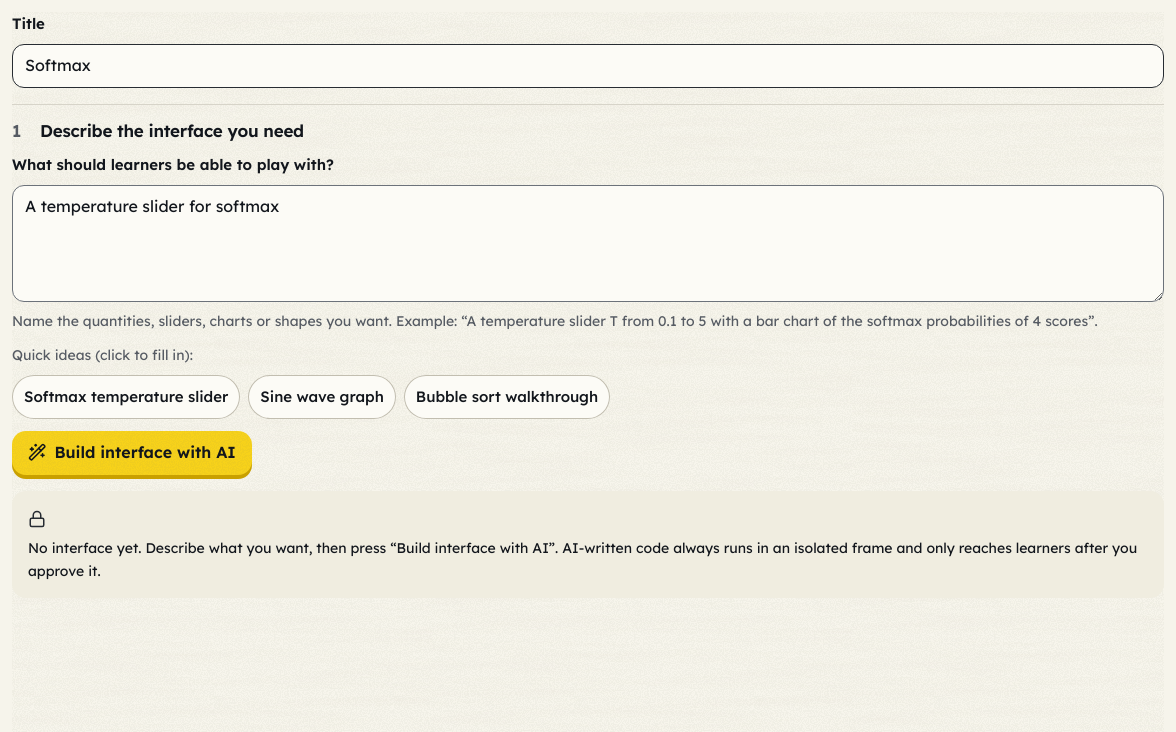
WidgetBlock (AI generation) › shows elapsed time, can be canceled and keeps the current code
Click the button "Build interface with AI".
click(132, 452)  # box [12,430,252,474]
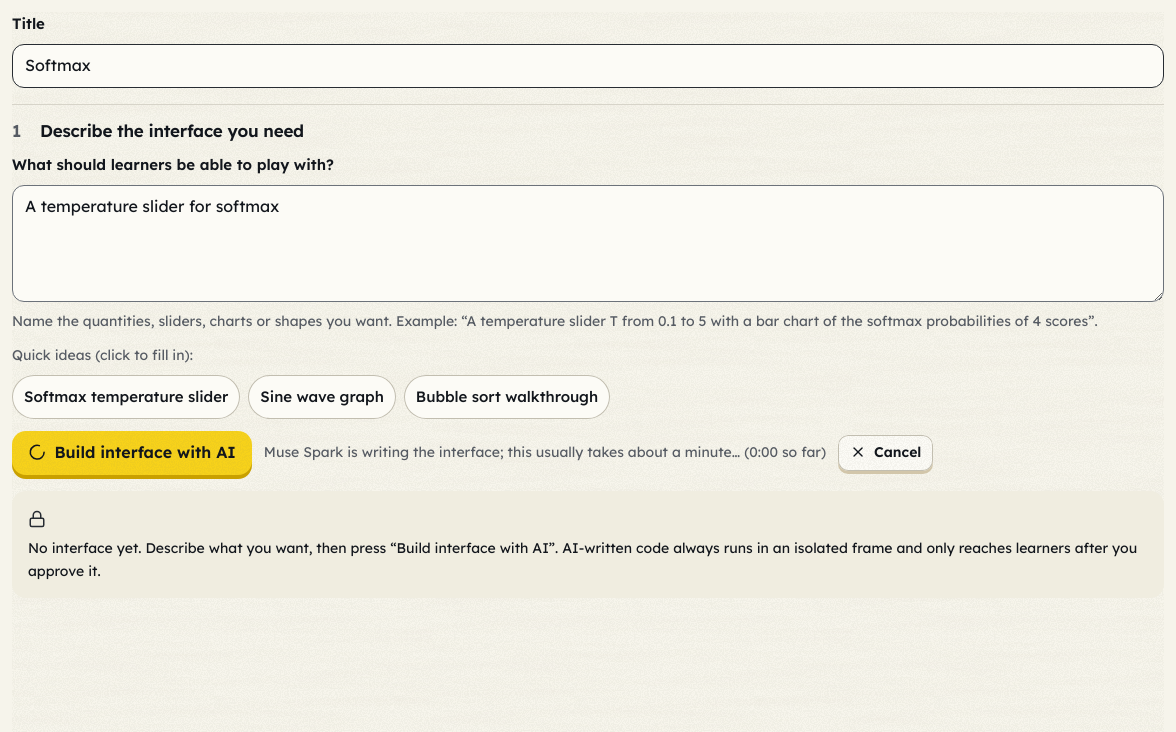
Result: the text "so far" is shown at [744,443,826,461]
Click the button "Cancel".
click(886, 452)  # box [838,434,933,470]
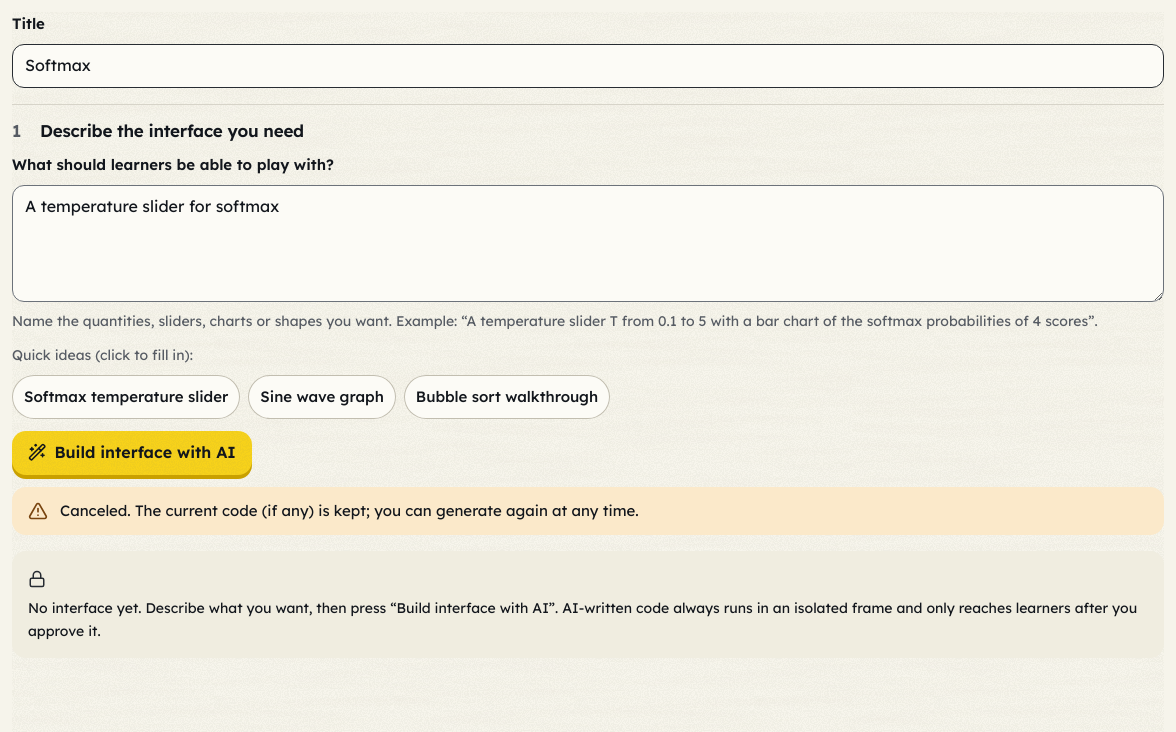
Result: the text "Canceled." is shown at [60,500,639,520]
